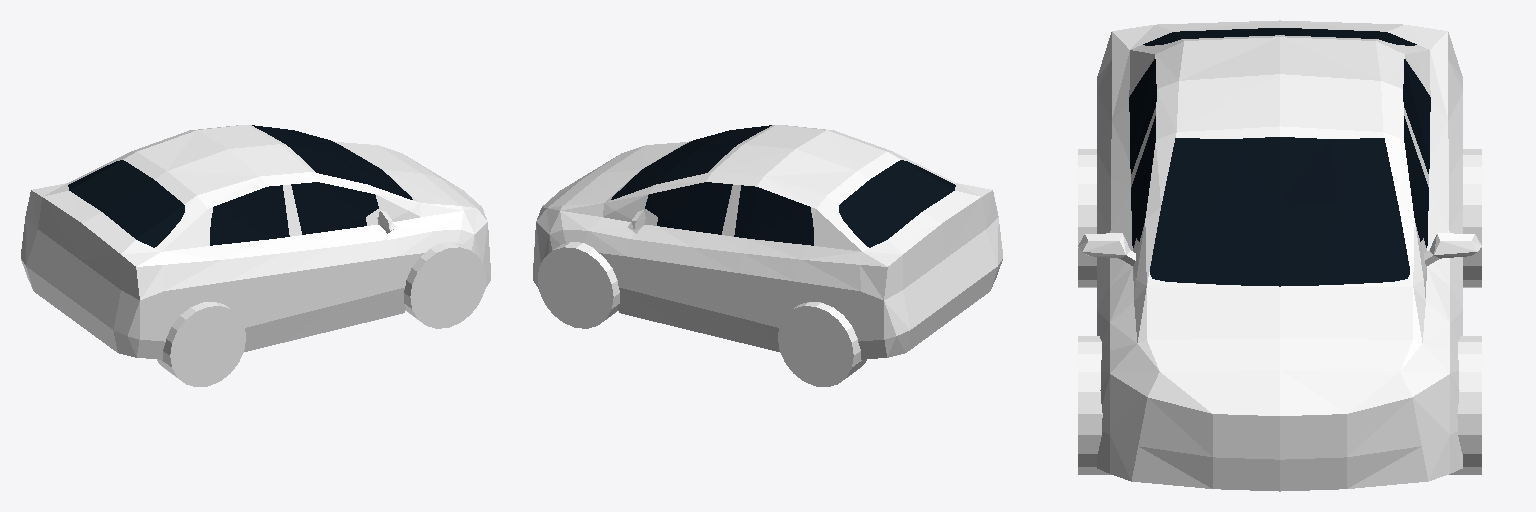
The robot description file, URDF, robot "ctrl_zero_child_car":
<?xml version="1.0" encoding="utf-8"?>
<robot name="ctrl_zero_child_car">
  <mujoco>
    <compiler discardvisual="false" />
  </mujoco>
  <material name="body_white">
    <color rgba="0.92 0.94 0.97 1" />
  </material>
  <material name="tire_black">
    <color rgba="0.035 0.035 0.04 1" />
  </material>
  <material name="vehicle_mesh_material_body">
    <color rgba="1 1 1 1" />
  </material>
  <material name="vehicle_mesh_material_glass">
    <color rgba="0.08 0.12 0.16 0.42" />
  </material>
  <material name="vehicle_mesh_material_interior">
    <color rgba="1 1 1 1" />
  </material>
  <material name="vehicle_mesh_material_wheel">
    <color rgba="1 1 1 1" />
  </material>
  <link name="rear_axle_frame">
    <visual name="chassis_mesh_0">
      <origin xyz="0 0 0" rpy="0 0 0" />
      <geometry>
        <mesh filename="vehicle_mesh_prius/body.obj" />
      </geometry>
      <material name="vehicle_mesh_material_body" />
    </visual>
    <visual name="chassis_mesh_1">
      <origin xyz="0 0 0" rpy="0 0 0" />
      <geometry>
        <mesh filename="vehicle_mesh_prius/interior.obj" />
      </geometry>
      <material name="vehicle_mesh_material_interior" />
    </visual>
    <visual name="chassis_mesh_2">
      <origin xyz="0 0 0" rpy="0 0 0" />
      <geometry>
        <mesh filename="vehicle_mesh_prius/glass.obj" />
      </geometry>
      <material name="vehicle_mesh_material_glass" />
    </visual>
    <visual name="front_left_wheel_visual_mesh_0">
      <origin xyz="0.602986658 0.235 0.095624753" rpy="0 0 0" />
      <geometry>
        <mesh filename="vehicle_mesh_prius/wheel.obj" />
      </geometry>
      <material name="vehicle_mesh_material_wheel" />
    </visual>
    <visual name="front_right_wheel_visual_mesh_0">
      <origin xyz="0.602986658 -0.235 0.095624753" rpy="0 0 0" />
      <geometry>
        <mesh filename="vehicle_mesh_prius/wheel.obj" />
      </geometry>
      <material name="vehicle_mesh_material_wheel" />
    </visual>
    <visual name="rear_left_wheel_visual_mesh_0">
      <origin xyz="0 0.235 0.095624753" rpy="0 0 0" />
      <geometry>
        <mesh filename="vehicle_mesh_prius/wheel.obj" />
      </geometry>
      <material name="vehicle_mesh_material_wheel" />
    </visual>
    <visual name="rear_right_wheel_visual_mesh_0">
      <origin xyz="0 -0.235 0.095624753" rpy="0 0 0" />
      <geometry>
        <mesh filename="vehicle_mesh_prius/wheel.obj" />
      </geometry>
      <material name="vehicle_mesh_material_wheel" />
    </visual>
  </link>
</robot>

--- What the picture shows (computed from the rendered views, not written in the file) ---
The picture shows the robot from 3 angles, left to right: view 1: azimuth 30°, elevation 25°; view 2: azimuth 150°, elevation 25°; view 3: azimuth 270°, elevation 25°; orthographic projection.
Robot: ctrl_zero_child_car — 1 links, 0 joints (none); root link rear_axle_frame; default pose: every joint at zero.
Visible links, largest first — view 1: rear_axle_frame; view 2: rear_axle_frame; view 3: rear_axle_frame.
Link boxes in pixels (<box>): rear_axle_frame: <box>21,125,490,386</box>; rear_axle_frame: <box>533,125,1002,386</box>; rear_axle_frame: <box>1078,20,1481,491</box>.
Size in the robot's own frame: 0.99 by 0.55 by 0.41 metres.
7 mesh visuals loaded from 4 distinct referenced files (4 OBJ).
